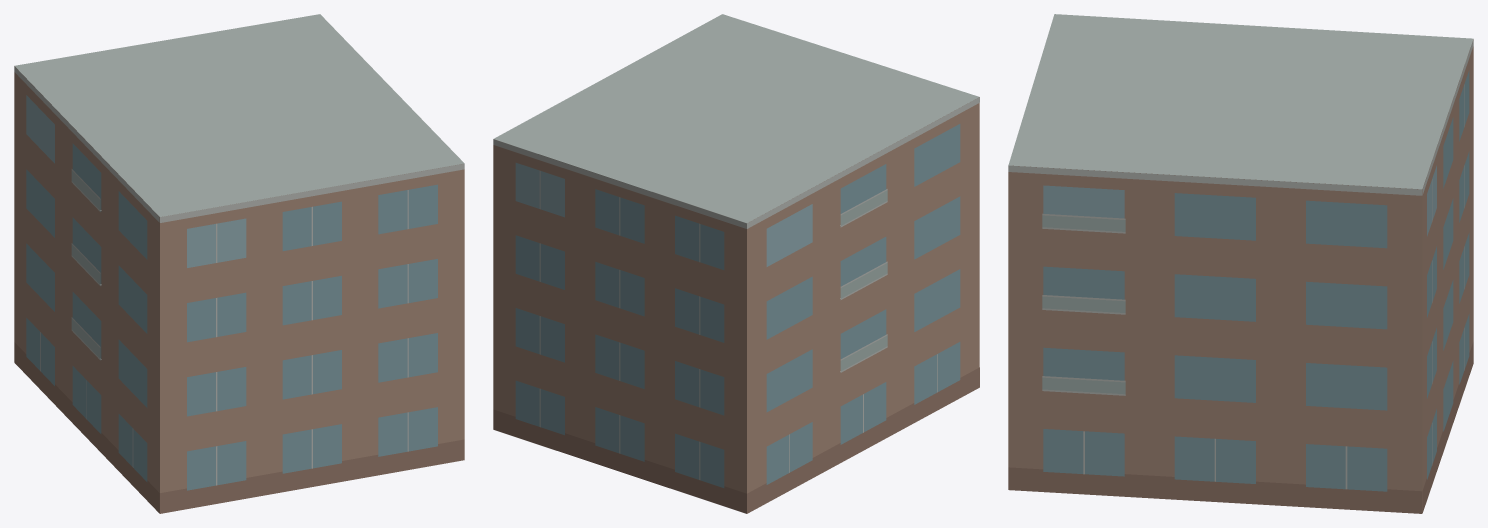
The model's file is residential-776e0df4-89d5-4ee6-86cd-e8278943ef05.glb.
3 views of the same model, side by side, from view 1: azimuth 30°, elevation 25°; view 2: azimuth 150°, elevation 25°; view 3: azimuth 270°, elevation 25° (orthographic). The views are drawn at different scales.
Parts seen in each view (by area): view 1: residential-776e0df4-89d5-4ee6-86cd-e8278943ef05.tmp; view 2: residential-776e0df4-89d5-4ee6-86cd-e8278943ef05.tmp; view 3: residential-776e0df4-89d5-4ee6-86cd-e8278943ef05.tmp.
Boxes of the visible parts, x1=… form: residential-776e0df4-89d5-4ee6-86cd-e8278943ef05.tmp: x1=14, y1=14, x2=464, y2=513; residential-776e0df4-89d5-4ee6-86cd-e8278943ef05.tmp: x1=493, y1=14, x2=979, y2=513; residential-776e0df4-89d5-4ee6-86cd-e8278943ef05.tmp: x1=1008, y1=14, x2=1473, y2=513.
Bounding box in the file's own units: 14.15 × 12.2 × 15.86.
